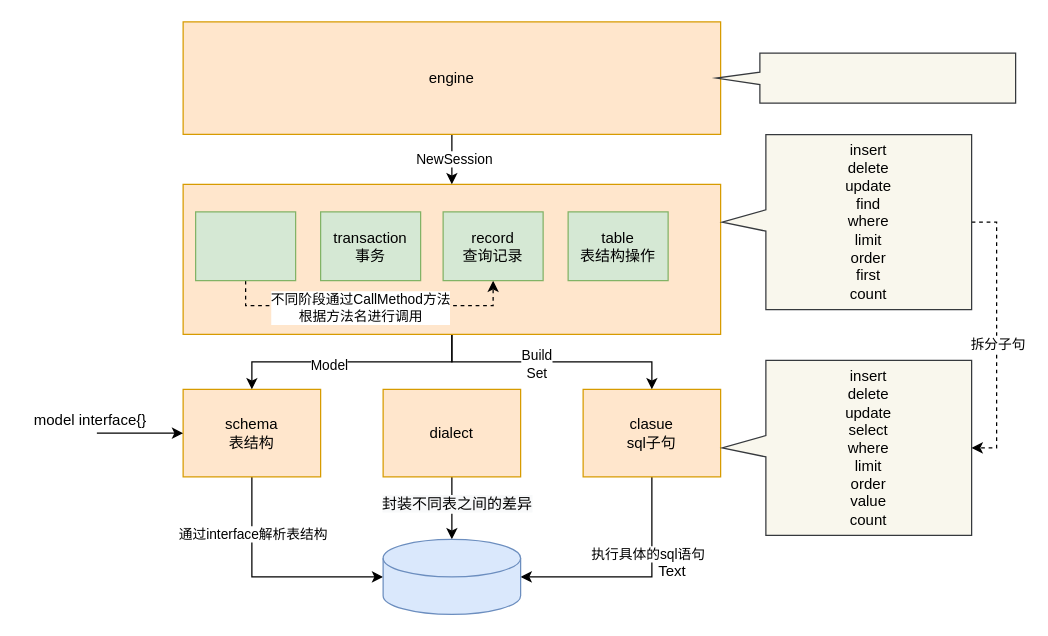
The diagram is 1048 pixels wide and 636 high, and some of its shapes have lost their labels. Each missing label, with the box of its shape:
1、连接数据库； 2、ping数据库，校验是否连接成功；: (715, 52, 1016, 103)
DB: (382, 538, 521, 614)
hook: (194, 211, 296, 281)
session: (182, 183, 721, 334)
